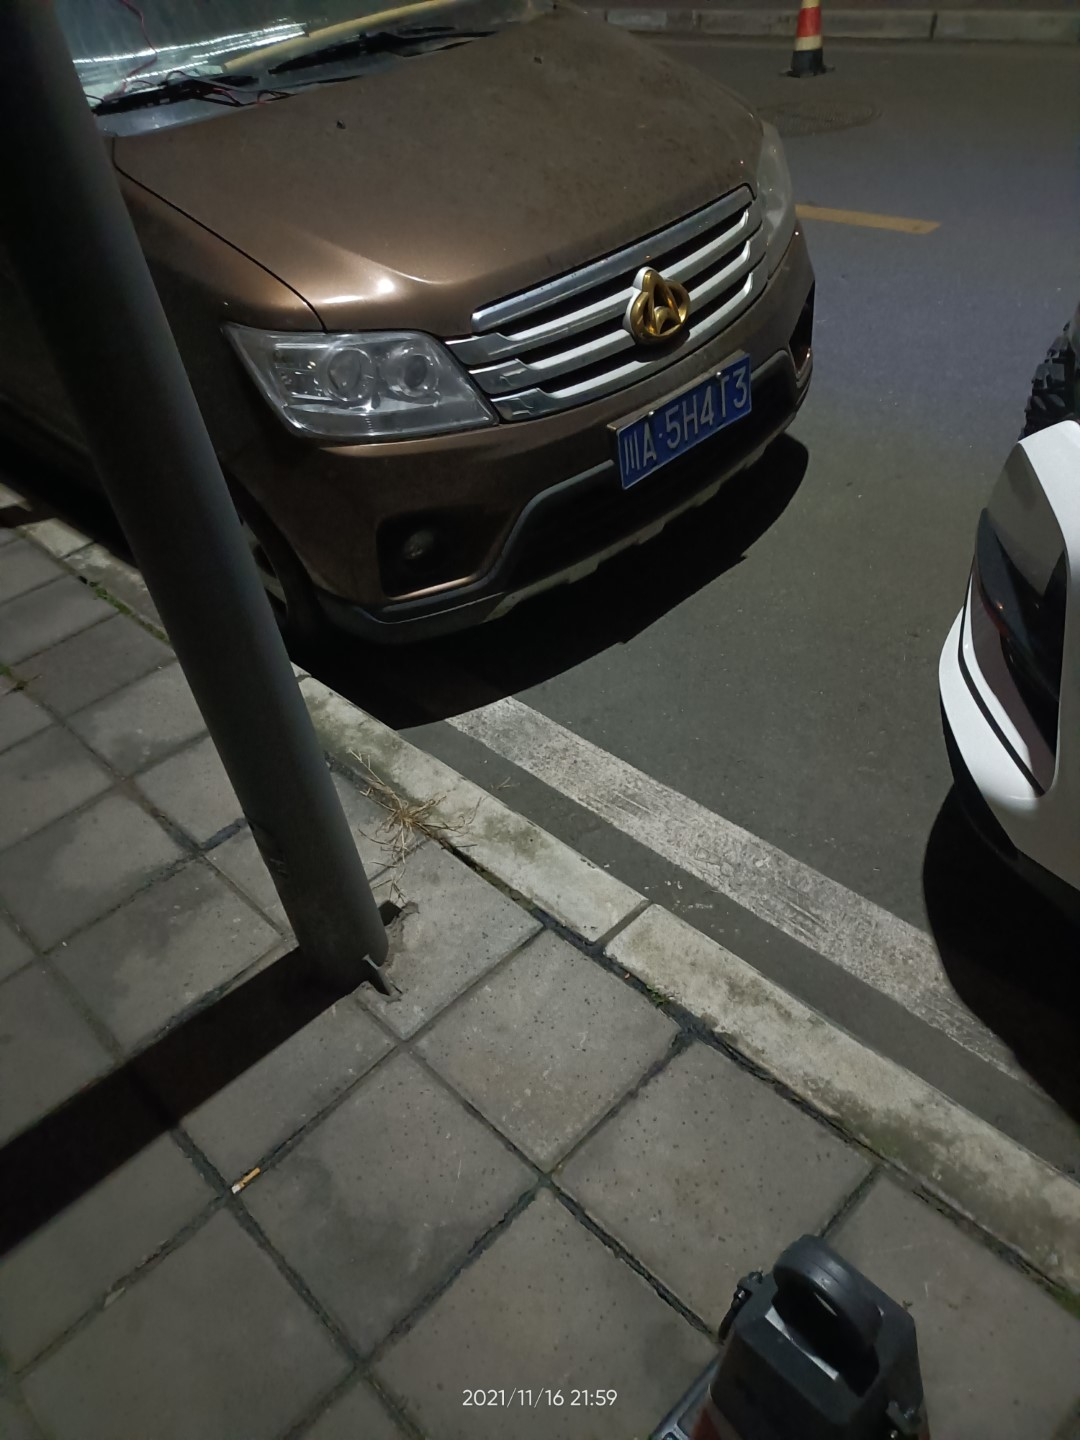plate: (616, 354, 752, 489)
